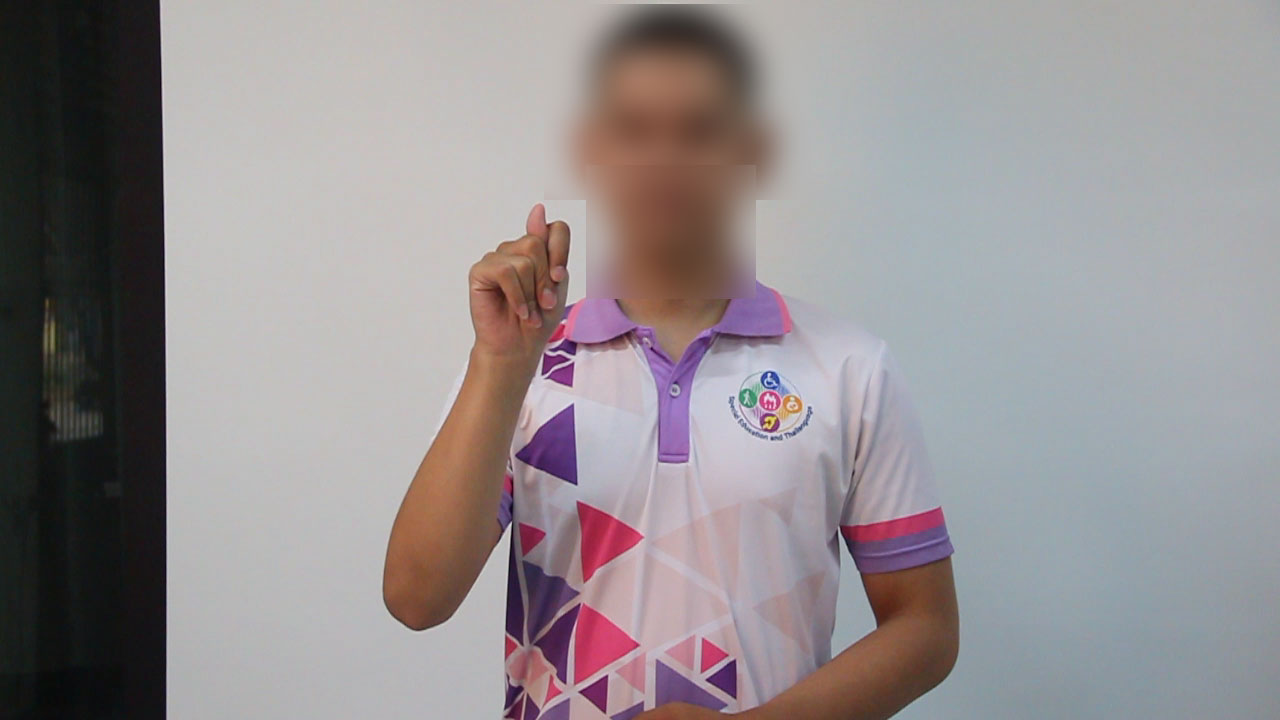tor: (444, 191, 592, 382)
